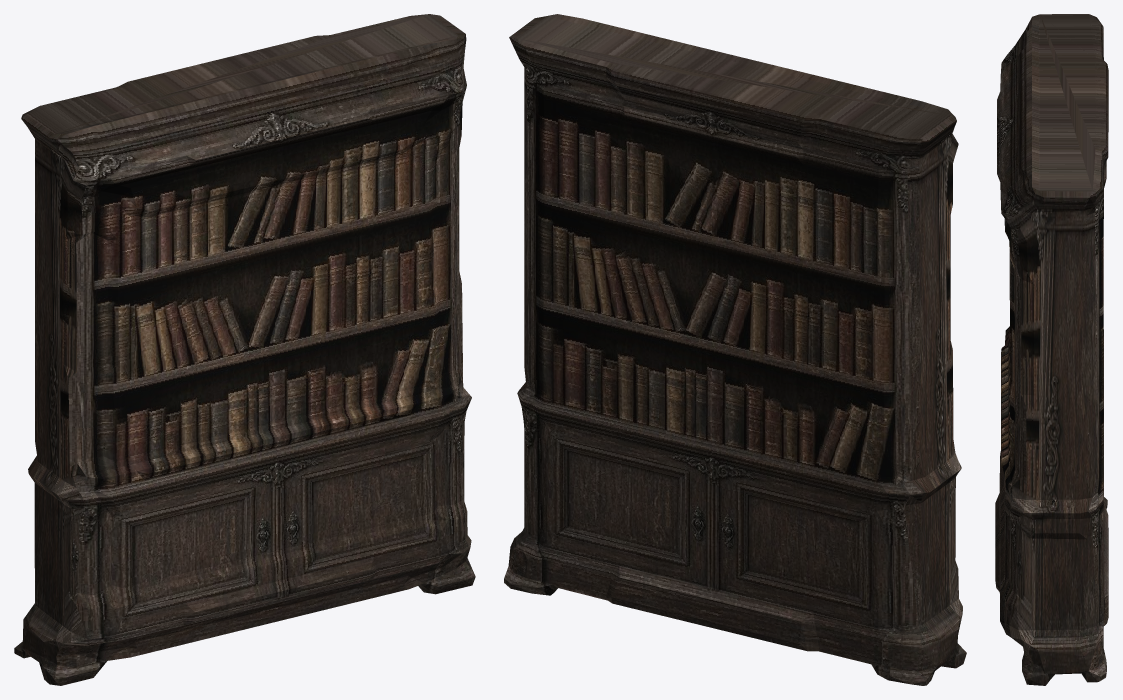
The model's file is shelf_high.glb.
3 views of the same model, side by side, from view 1: azimuth 30°, elevation 25°; view 2: azimuth 150°, elevation 25°; view 3: azimuth 270°, elevation 25° (orthographic). The views are drawn at different scales.
Parts seen in each view (by area): view 1: shelf_high; view 2: shelf_high; view 3: shelf_high.
Part boxes in pixels (x1,y1,x2,y2): shelf_high: (14, 14, 475, 685); shelf_high: (504, 14, 966, 685); shelf_high: (995, 14, 1108, 685).
Bounding box in the file's own units: 1.78 × 2.2 × 0.4591.
Materials: 1 (1 with a texture image).
